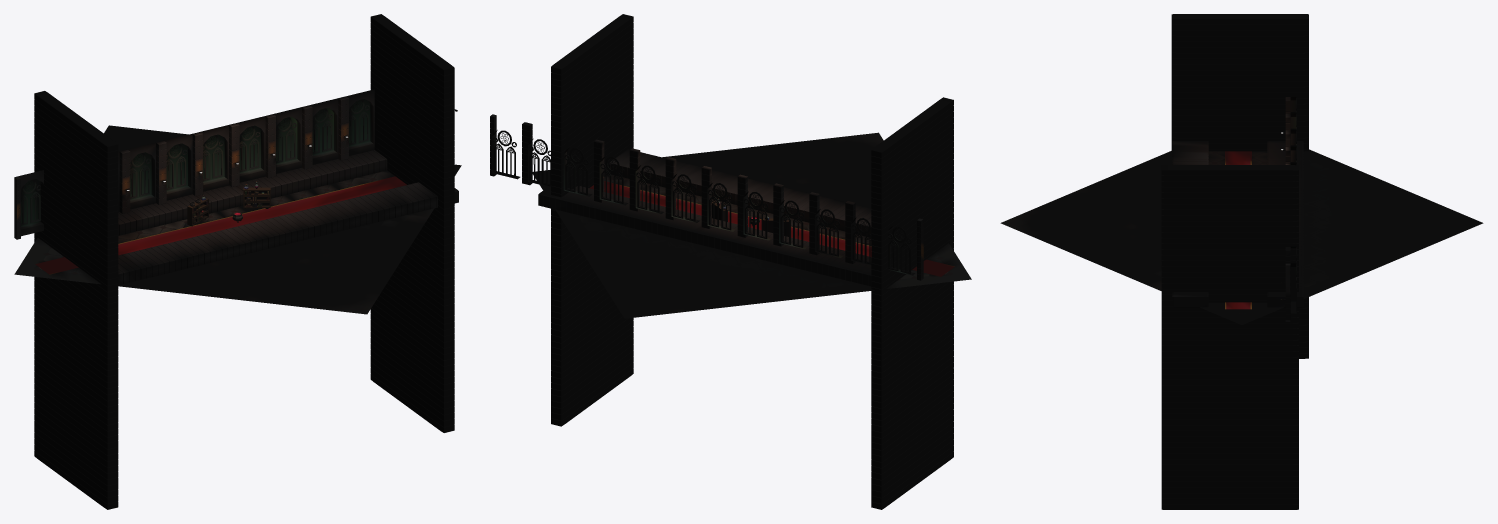
Rendered from AlhemistZone2.fbx.
3 views of the same model, side by side, from view 1: azimuth 30°, elevation 25°; view 2: azimuth 150°, elevation 25°; view 3: azimuth 270°, elevation 25° (orthographic). The views are drawn at different scales.
Parts seen in each view (by area): view 1: Plane.005; view 2: Plane.005; view 3: Plane.005.
Boxes of the visible parts, box(x1,y1,x2,y2) form: Plane.005: box(14, 14, 461, 509); Plane.005: box(490, 14, 971, 509); Plane.005: box(1000, 14, 1483, 509).
Size of the model in its own units: 8950 by 6689 by 8619.
